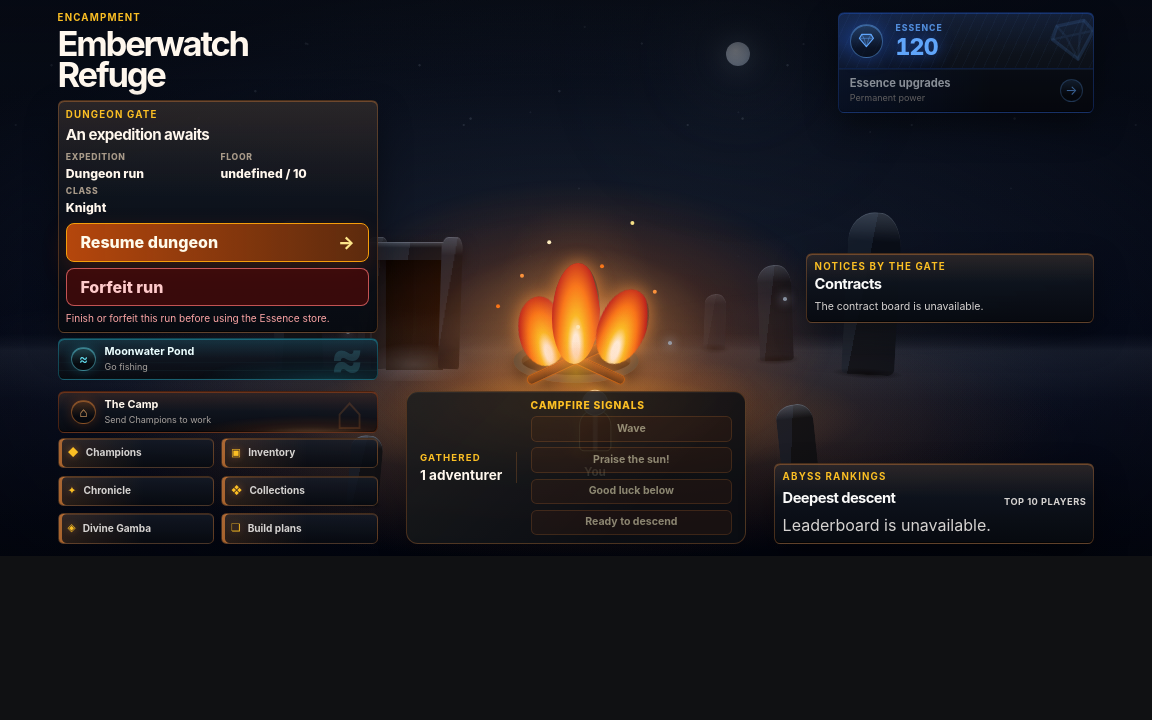
Test case: GameDashboard forfeit flow › reports a failed forfeit instead of silently leaving the run in place
The width and height of the screenshot is (1152, 720).
Click the button "Forfeit run" at (122,287), box [66,268,369,306]
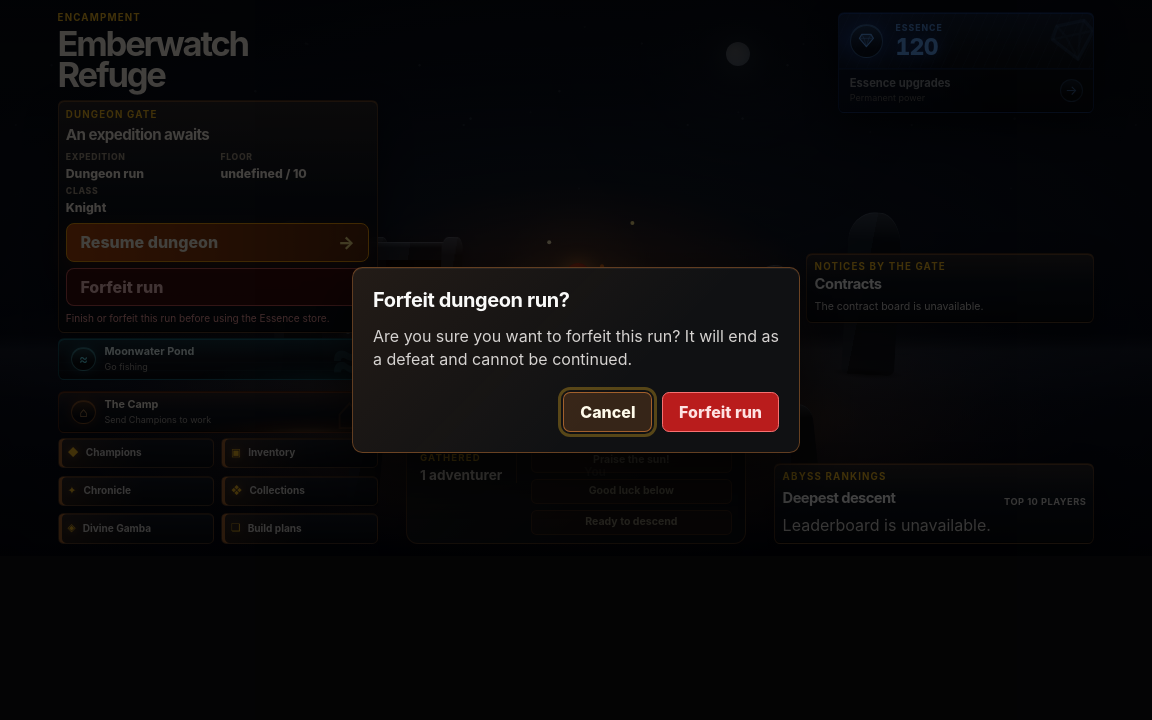
Click the button "Forfeit run" at (720,412), box [662,392,779,432]
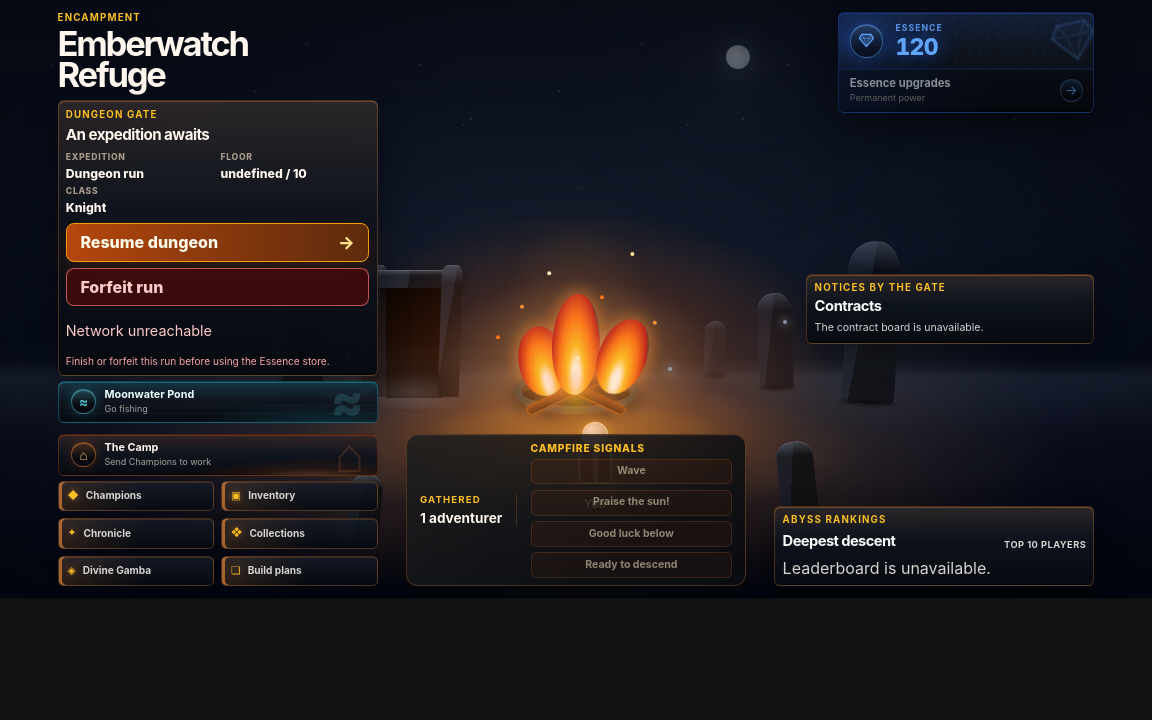
Now the text "Network unreachable" is shown, box [66,322,212,338]
